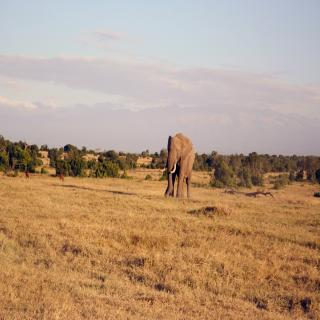Elephant: (160, 129, 198, 202)
